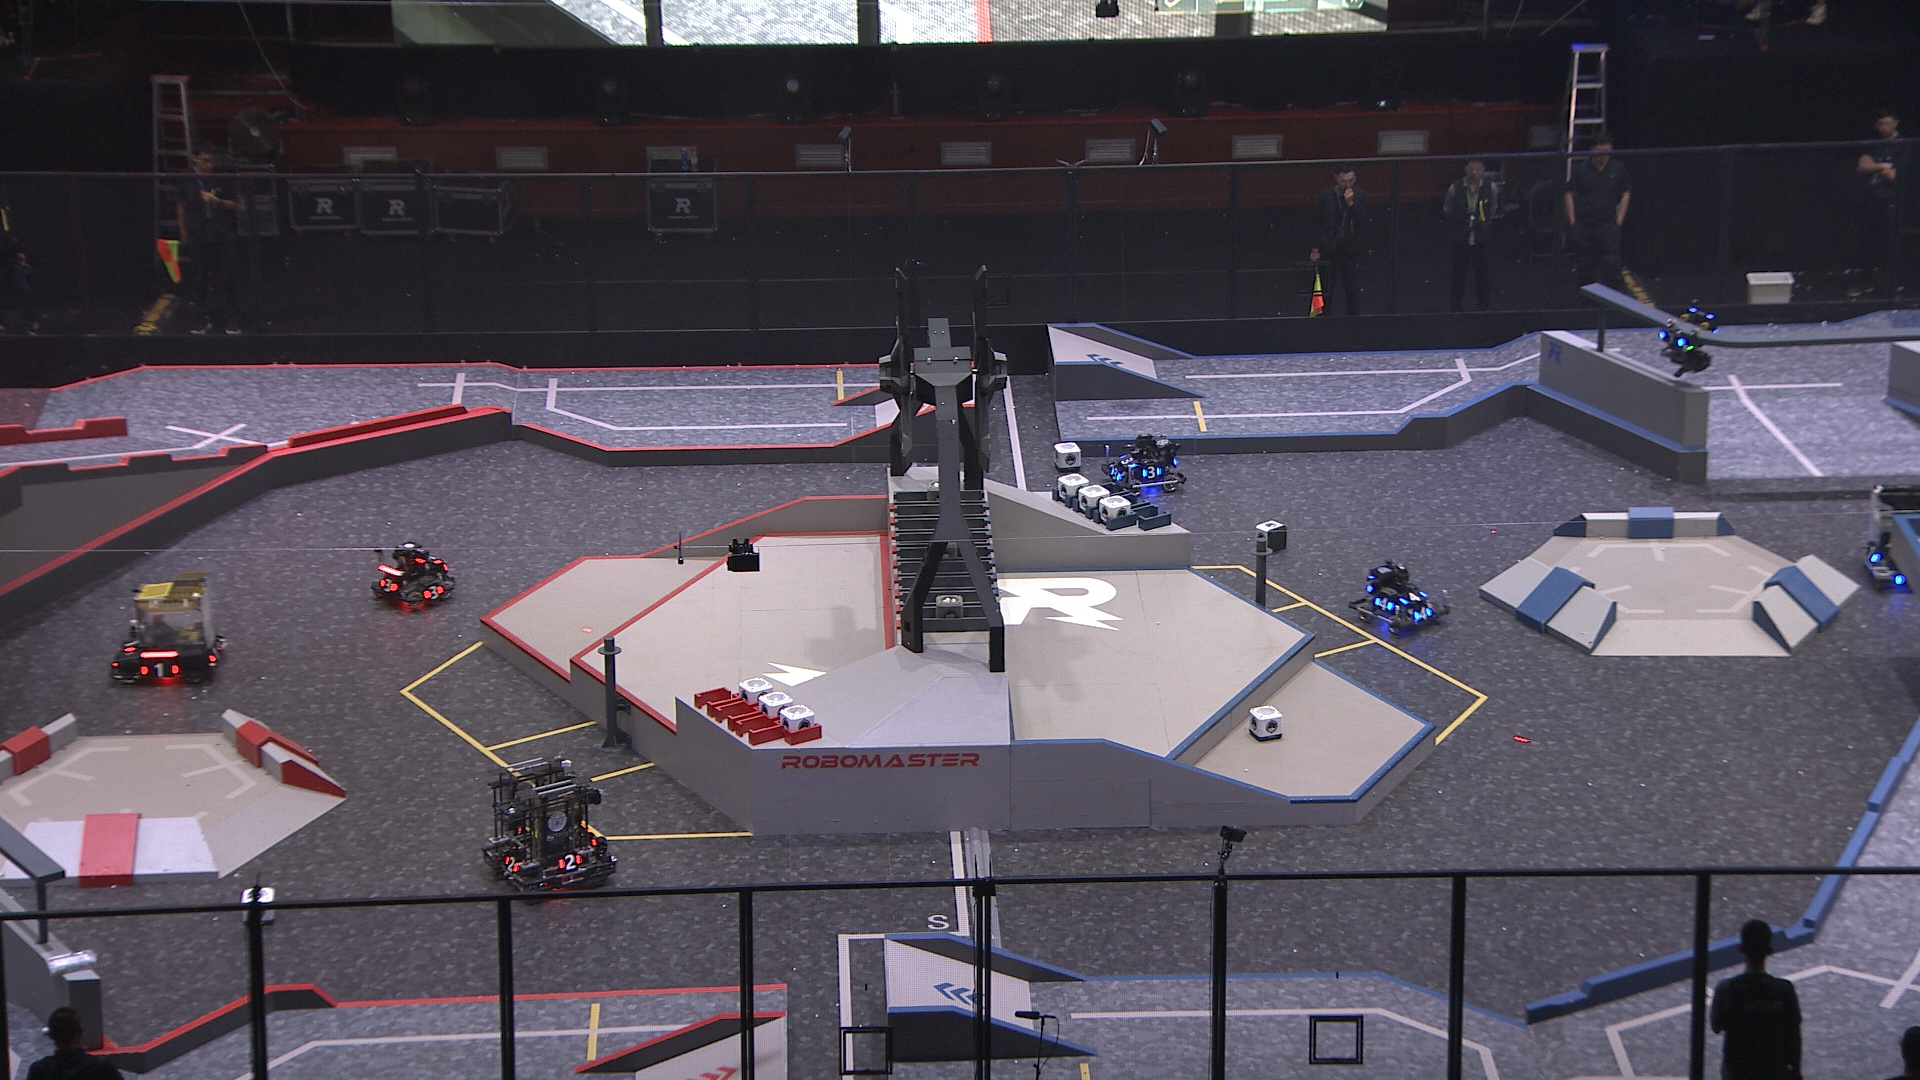armor: (553, 853, 585, 876), (138, 661, 181, 678), (1396, 588, 1429, 608), (1658, 327, 1687, 348), (116, 633, 138, 655), (204, 640, 224, 665), (501, 851, 520, 877), (419, 584, 446, 603), (376, 574, 400, 593), (1371, 593, 1395, 613), (422, 550, 444, 568), (1863, 541, 1879, 566), (1141, 463, 1162, 481), (1109, 462, 1126, 484), (1414, 604, 1436, 621), (1120, 454, 1138, 469)
car: (480, 752, 626, 902), (111, 570, 228, 694), (1349, 556, 1449, 636), (368, 538, 460, 613), (1859, 481, 1920, 593), (1097, 433, 1188, 498)
watcher: (1654, 294, 1717, 380)
